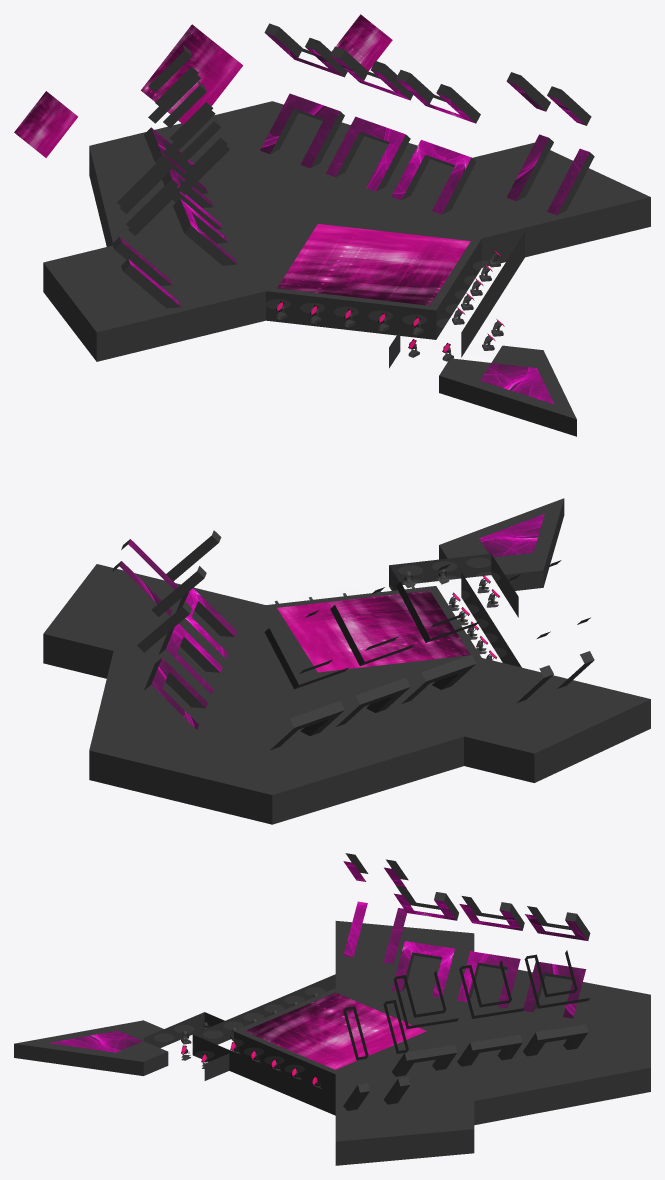
File: SM - Future House Dark Stage.glb
3 renders of one model, top to bottom at view 1: azimuth 30°, elevation 25°; view 2: azimuth 150°, elevation 25°; view 3: azimuth 270°, elevation 25°, orthographic. The views are drawn at different scales.
Visible parts, largest first — view 1: Mesh1 Group1 Model, Mesh8 Group5 Model, Mesh3 Group3 Model, Mesh83 Model, Mesh18 Group_Screens1 Model, Mesh16 Group_Screens1 Model, Mesh17 Group_Screens1 Model, Mesh81 Model, Mesh2 Group2 Model, Mesh82 Model, Mesh72 Group_Screens2 Model, Mesh69 Group_Screens2 Model (+15 smaller); view 2: Mesh1 Group1 Model, Mesh8 Group5 Model, Mesh3 Group3 Model, Mesh2 Group2 Model, Mesh16 Group_Screens1 Model, Mesh17 Group_Screens1 Model, Mesh18 Group_Screens1 Model, Mesh72 Group_Screens2 Model, Mesh70 Group_Screens2 Model, Mesh71 Group_Screens2 Model, Mesh67 Group_Screens2 Model, Mesh69 Group_Screens2 Model (+4 smaller); view 3: Mesh1 Group1 Model, Mesh8 Group5 Model, Mesh2 Group2 Model, Mesh3 Group3 Model, Mesh72 Group_Screens2 Model, Mesh71 Group_Screens2 Model, Mesh70 Group_Screens2 Model, Mesh17 Group_Screens1 Model, Mesh18 Group_Screens1 Model, Mesh16 Group_Screens1 Model, Mesh68 Group_Screens2 Model, Mesh67 Group_Screens2 Model (+6 smaller).
Boxes of the visible parts, x1=… form: Mesh1 Group1 Model: x1=43, y1=101, x2=650, y2=361; Mesh8 Group5 Model: x1=277, y1=224, x2=470, y2=305; Mesh3 Group3 Model: x1=439, y1=345, x2=576, y2=436; Mesh83 Model: x1=141, y1=24, x2=242, y2=124; Mesh18 Group_Screens1 Model: x1=391, y1=139, x2=475, y2=214; Mesh16 Group_Screens1 Model: x1=260, y1=93, x2=344, y2=168; Mesh17 Group_Screens1 Model: x1=325, y1=116, x2=410, y2=191; Mesh81 Model: x1=14, y1=91, x2=77, y2=157; Mesh2 Group2 Model: x1=389, y1=232, x2=524, y2=368; Mesh82 Model: x1=331, y1=14, x2=392, y2=70; Mesh72 Group_Screens2 Model: x1=173, y1=198, x2=236, y2=265; Mesh69 Group_Screens2 Model: x1=177, y1=116, x2=229, y2=194; Mesh1 Group1 Model: x1=43, y1=564, x2=650, y2=824; Mesh8 Group5 Model: x1=277, y1=590, x2=470, y2=672; Mesh3 Group3 Model: x1=439, y1=498, x2=564, y2=590; Mesh2 Group2 Model: x1=389, y1=553, x2=521, y2=667; Mesh16 Group_Screens1 Model: x1=144, y1=657, x2=207, y2=729; Mesh17 Group_Screens1 Model: x1=158, y1=623, x2=222, y2=694; Mesh18 Group_Screens1 Model: x1=176, y1=588, x2=236, y2=658; Mesh72 Group_Screens2 Model: x1=401, y1=654, x2=476, y2=703; Mesh70 Group_Screens2 Model: x1=270, y1=701, x2=344, y2=750; Mesh71 Group_Screens2 Model: x1=336, y1=678, x2=410, y2=726; Mesh67 Group_Screens2 Model: x1=264, y1=610, x2=348, y2=689; Mesh69 Group_Screens2 Model: x1=396, y1=564, x2=479, y2=642; Mesh1 Group1 Model: x1=233, y1=921, x2=650, y2=1165; Mesh8 Group5 Model: x1=244, y1=992, x2=426, y2=1069; Mesh2 Group2 Model: x1=143, y1=974, x2=335, y2=1115; Mesh3 Group3 Model: x1=14, y1=1020, x2=168, y2=1075; Mesh72 Group_Screens2 Model: x1=391, y1=941, x2=454, y2=997; Mesh71 Group_Screens2 Model: x1=457, y1=951, x2=520, y2=1008; Mesh70 Group_Screens2 Model: x1=523, y1=962, x2=586, y2=1018; Mesh17 Group_Screens1 Model: x1=457, y1=1034, x2=522, y2=1066; Mesh18 Group_Screens1 Model: x1=392, y1=1045, x2=456, y2=1076; Mesh16 Group_Screens1 Model: x1=523, y1=1024, x2=588, y2=1056; Mesh68 Group_Screens2 Model: x1=459, y1=896, x2=524, y2=930; Mesh67 Group_Screens2 Model: x1=525, y1=906, x2=590, y2=940.
Bounding box in the file's own units: 20.03 × 5.28 × 24.39.
Materials: 5 (3 with a texture image).
